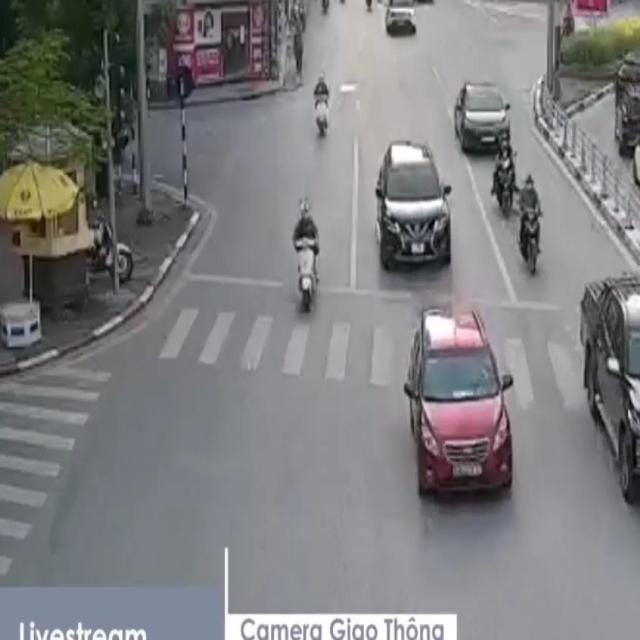car: (407, 310, 514, 496), (580, 274, 640, 519), (376, 142, 453, 270), (455, 82, 513, 155), (616, 55, 640, 154), (386, 3, 418, 38)
motorbike: (288, 200, 324, 319), (514, 171, 545, 284), (491, 133, 518, 223), (310, 71, 339, 140)
